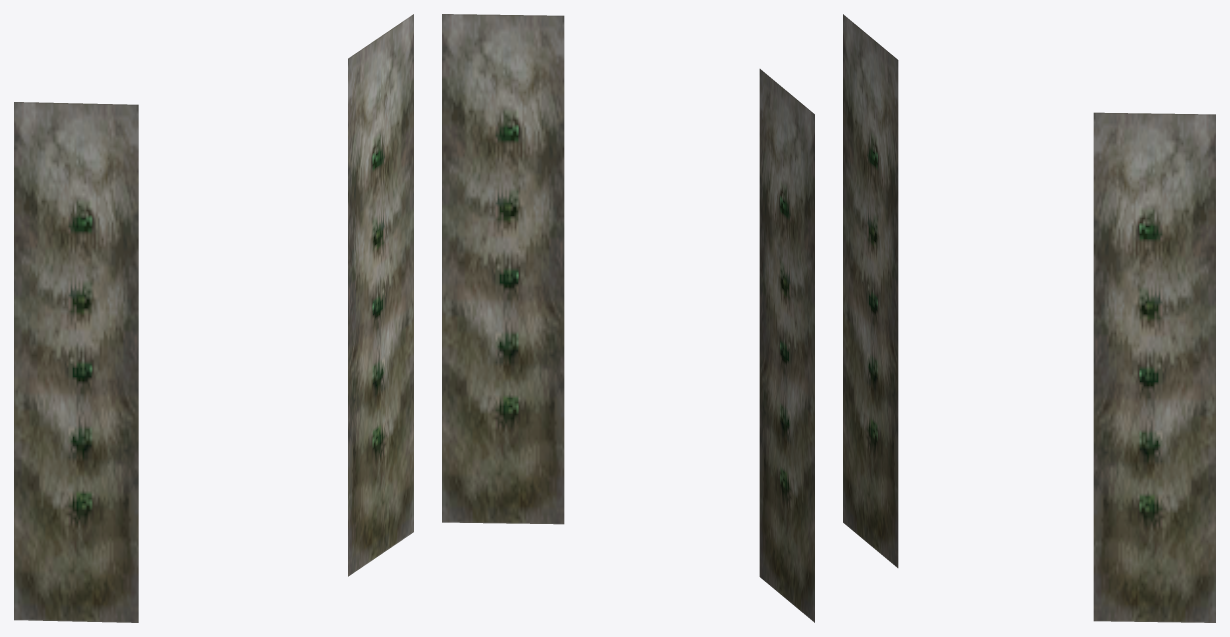
3 renders of one model, left to right at view 1: azimuth 30°, elevation 25°; view 2: azimuth 150°, elevation 25°; view 3: azimuth 330°, elevation 25°, orthographic.
Visible parts, largest first — view 1: Shield_02_2; view 2: Shield_02_2; view 3: Shield_02_2.
Boxes of the visible parts, x1,y1,x2,y2 form: Shield_02_2: (14,14,413,622); Shield_02_2: (442,14,814,622); Shield_02_2: (843,14,1215,622).
Bounding box in the file's own units: 0.4521 × 0.5743 × 0.0787.
1 material, 1 textured.
